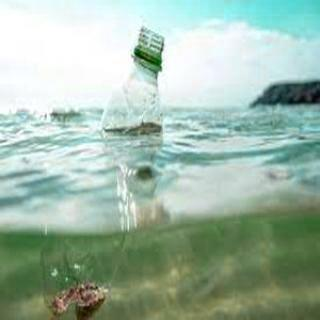Plastic: (100, 27, 170, 139)
